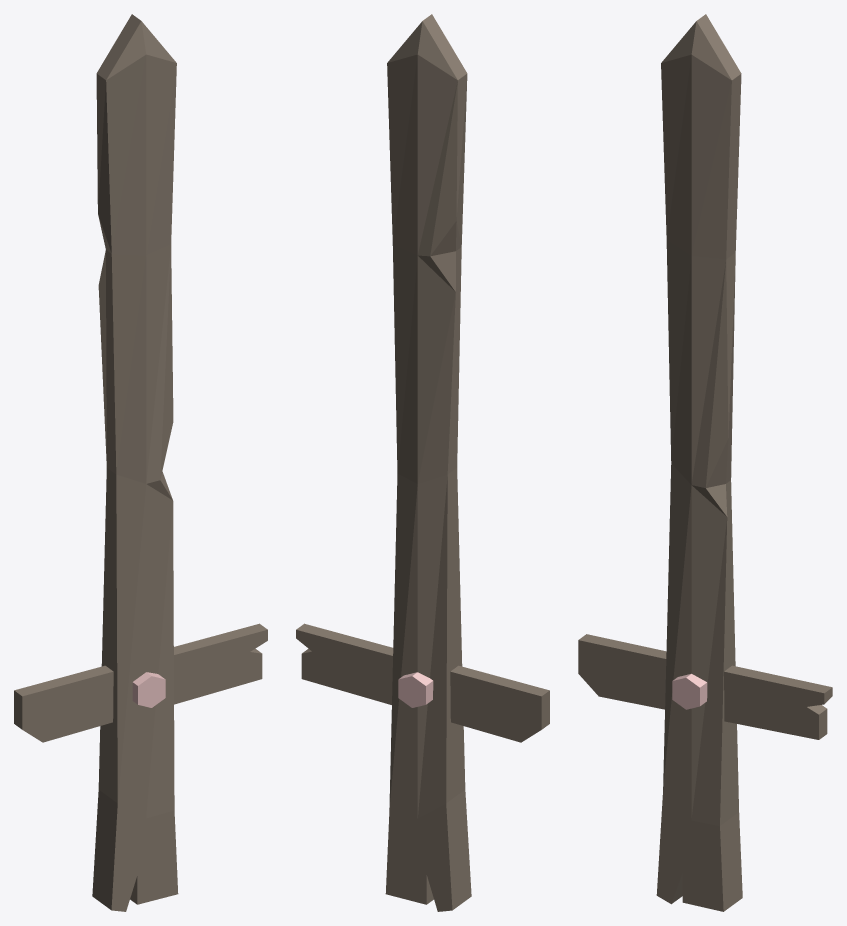
The model's file is SM_Wep_Wooden_01.glb.
3 renders of one model, left to right at view 1: azimuth 30°, elevation 25°; view 2: azimuth 150°, elevation 25°; view 3: azimuth 330°, elevation 25°, orthographic.
Parts seen in each view (by area): view 1: SM_Wep_Wooden_01_00; view 2: SM_Wep_Wooden_01_00; view 3: SM_Wep_Wooden_01_00.
Part boxes in pixels (<box>): SM_Wep_Wooden_01_00: <box>14,14,267,911</box>; SM_Wep_Wooden_01_00: <box>296,14,549,911</box>; SM_Wep_Wooden_01_00: <box>578,14,832,911</box>.
Size of the model in its own units: 0.2612 by 0.8973 by 0.0554.
Materials: 1 (1 with a texture image).
